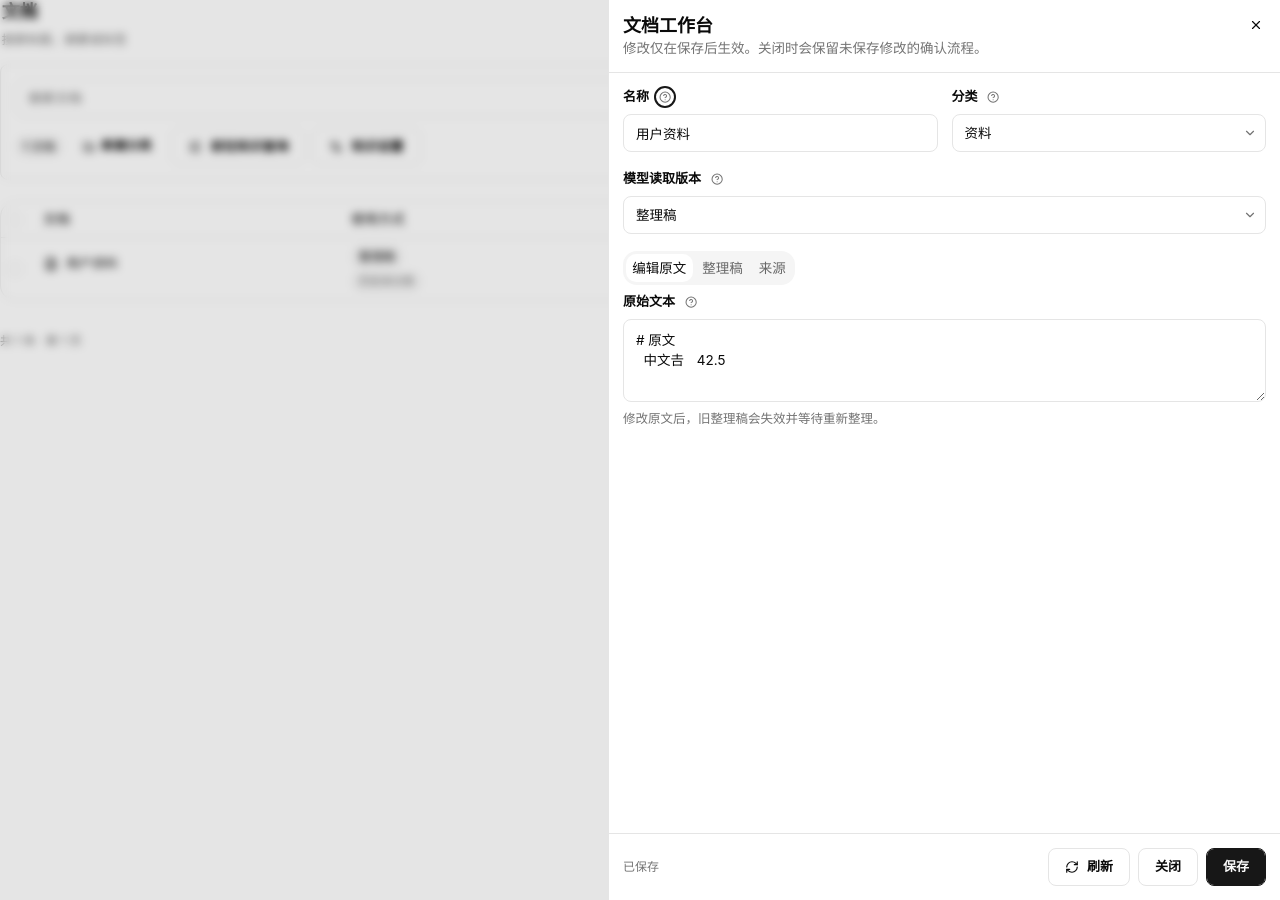
Test: knowledge editing and authorization › surfaces conflict alert inside active sheet and preserves document draft on save failure
Replace the text in the field showing "用户资料" with "修改名称" at [780, 133], box top-left (623, 114), bottom-right (938, 152)
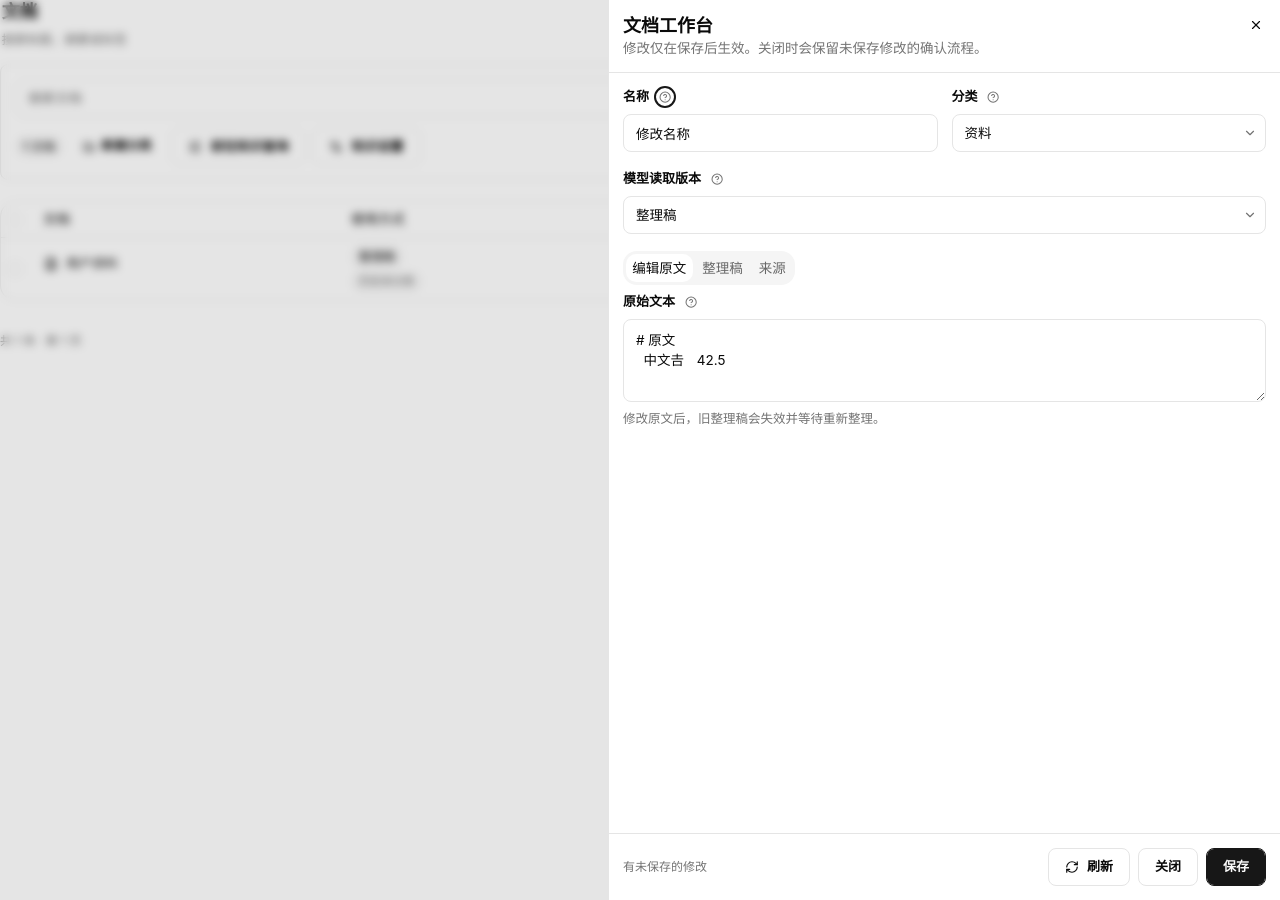
Click the button "保存" at [1236, 867], box top-left (1206, 848), bottom-right (1266, 886)
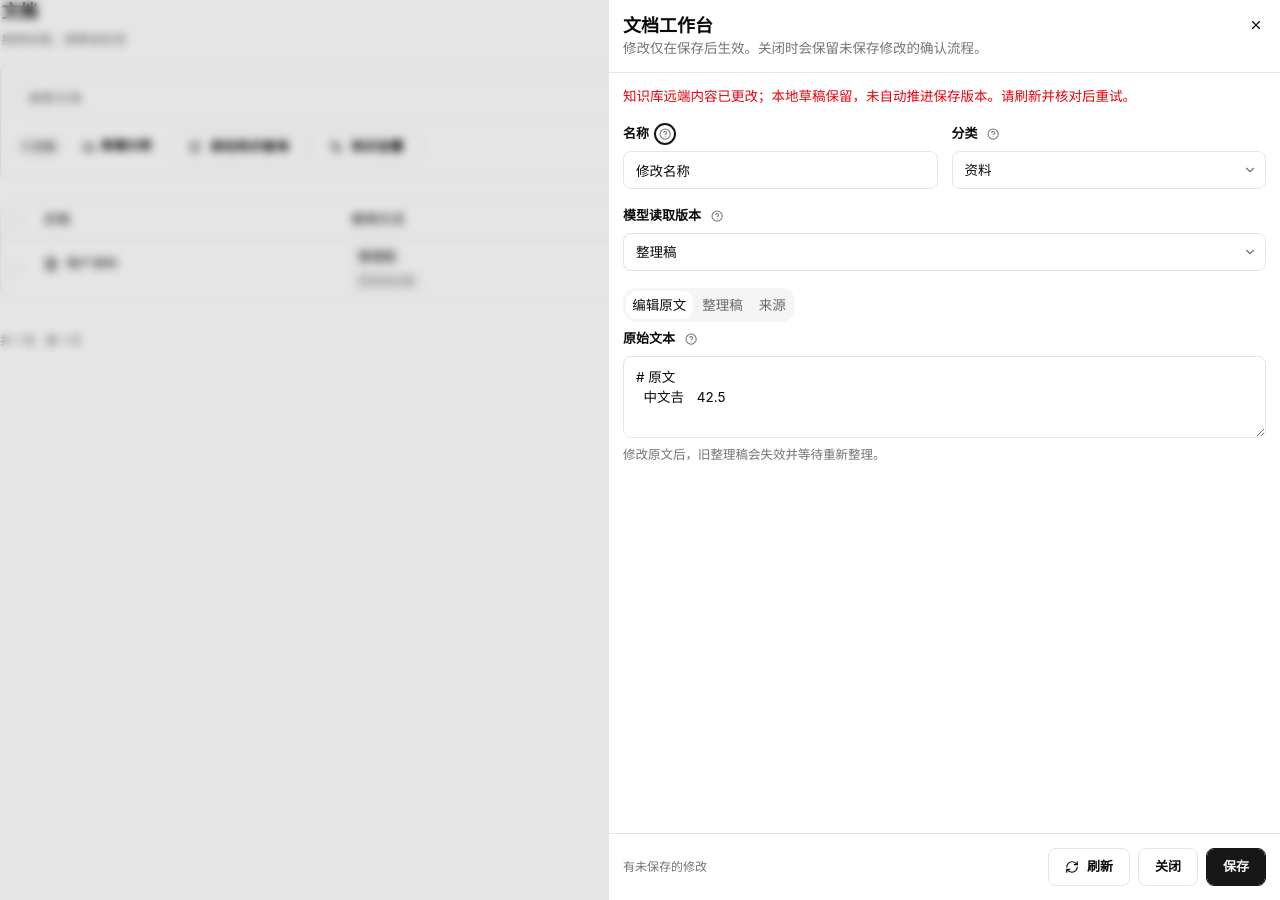
Result: the number of messages is 1 at top-left (623, 88), bottom-right (1136, 104)
Result: the message "知识库远端内容已更改；本地草稿保留，未自动推进保存版本。请刷新并核对后重试。" is shown at top-left (623, 88), bottom-right (1136, 104)
